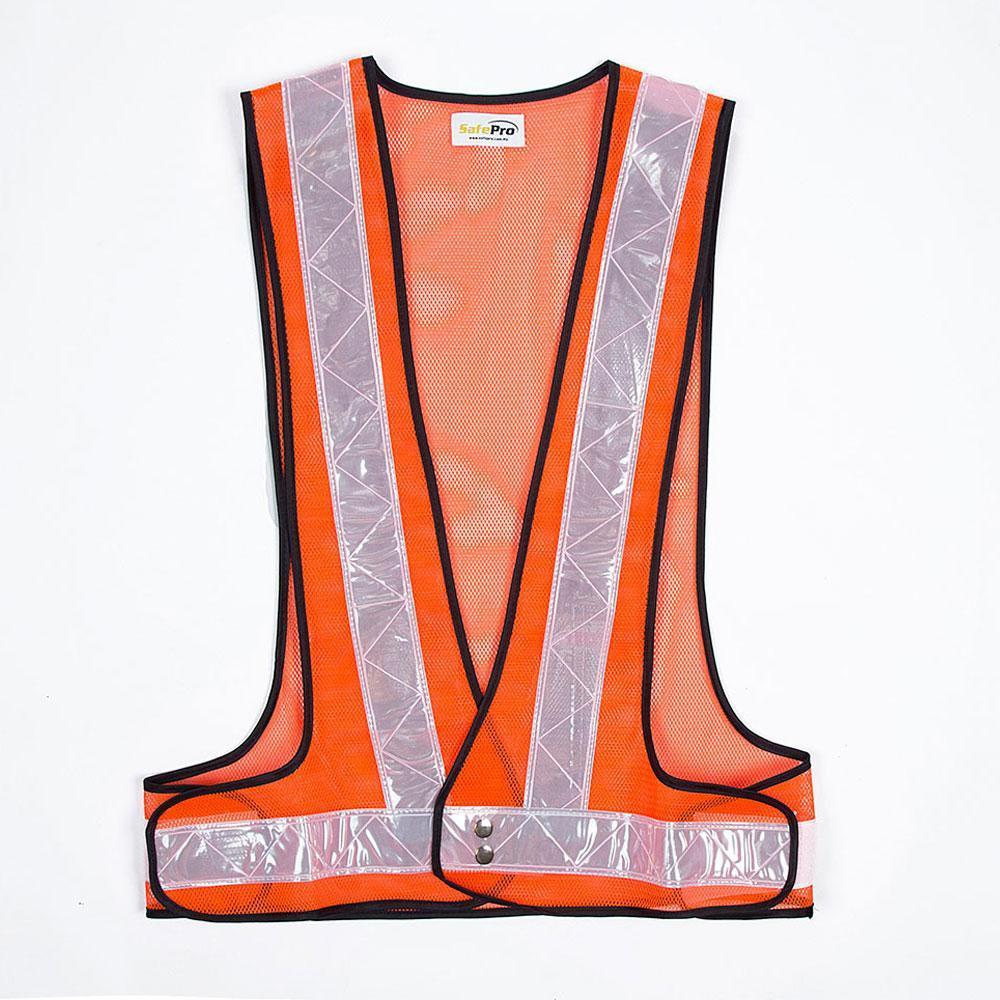vest: (136, 54, 818, 929)
